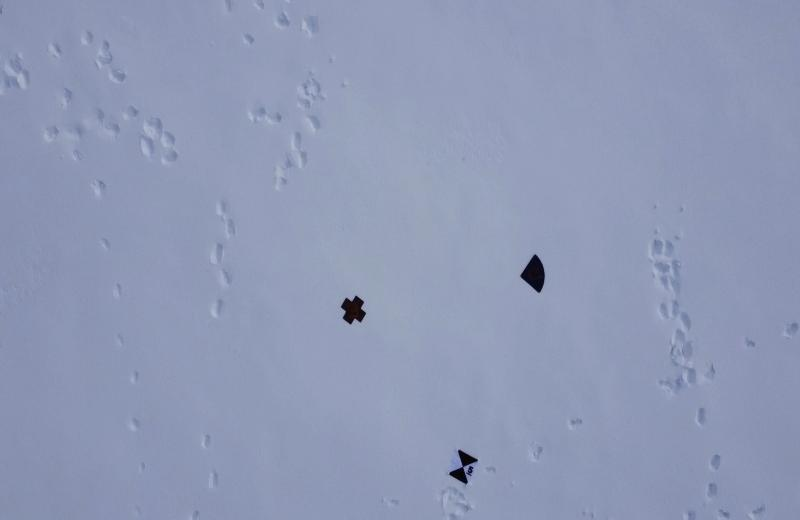Cross: (337, 292, 368, 326)
Quarter Circle: (517, 252, 548, 296)
